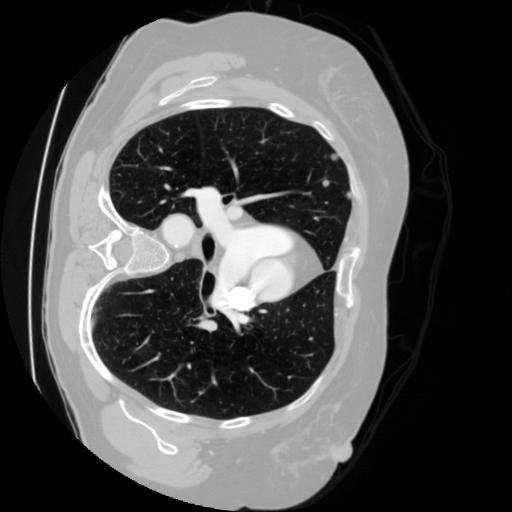nodule: (321, 179, 335, 193)
